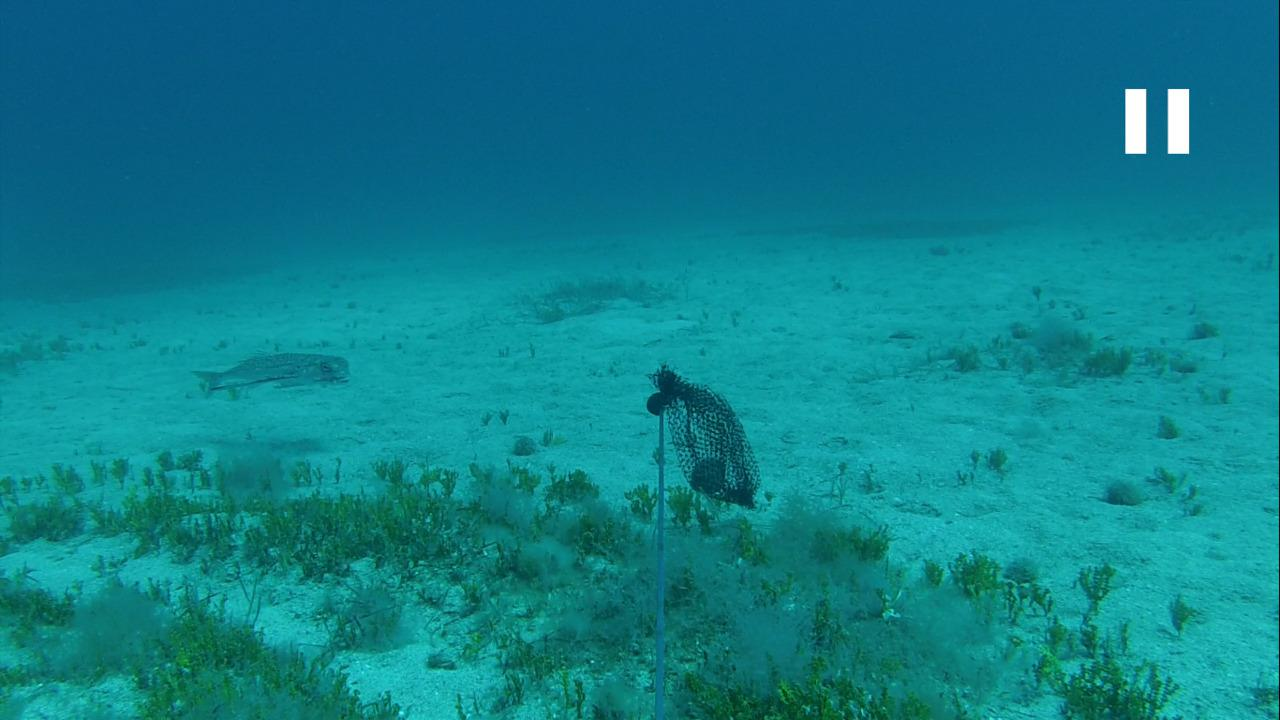dactylopterus: (196, 348, 352, 399)
